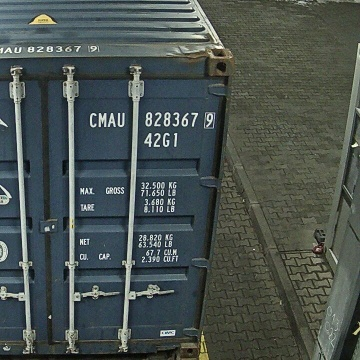serial_id: (90, 112, 213, 127)
